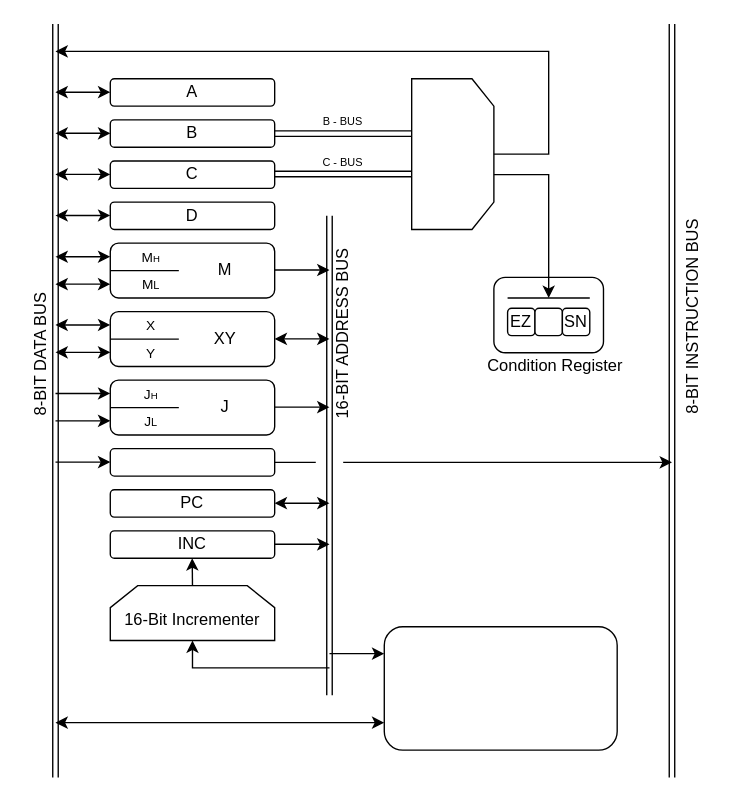
Image size: 736x801. Some labels were removed from this diagram. The shapes that lost their labels are listed below. From the top down, each one's box as (x1, y1, x2, y2) in pixels, then its label:
(410, 77, 494, 229): 8-BIT ALU
(534, 307, 562, 336): CY
(109, 447, 275, 476): INST
(383, 625, 617, 750): Memory
